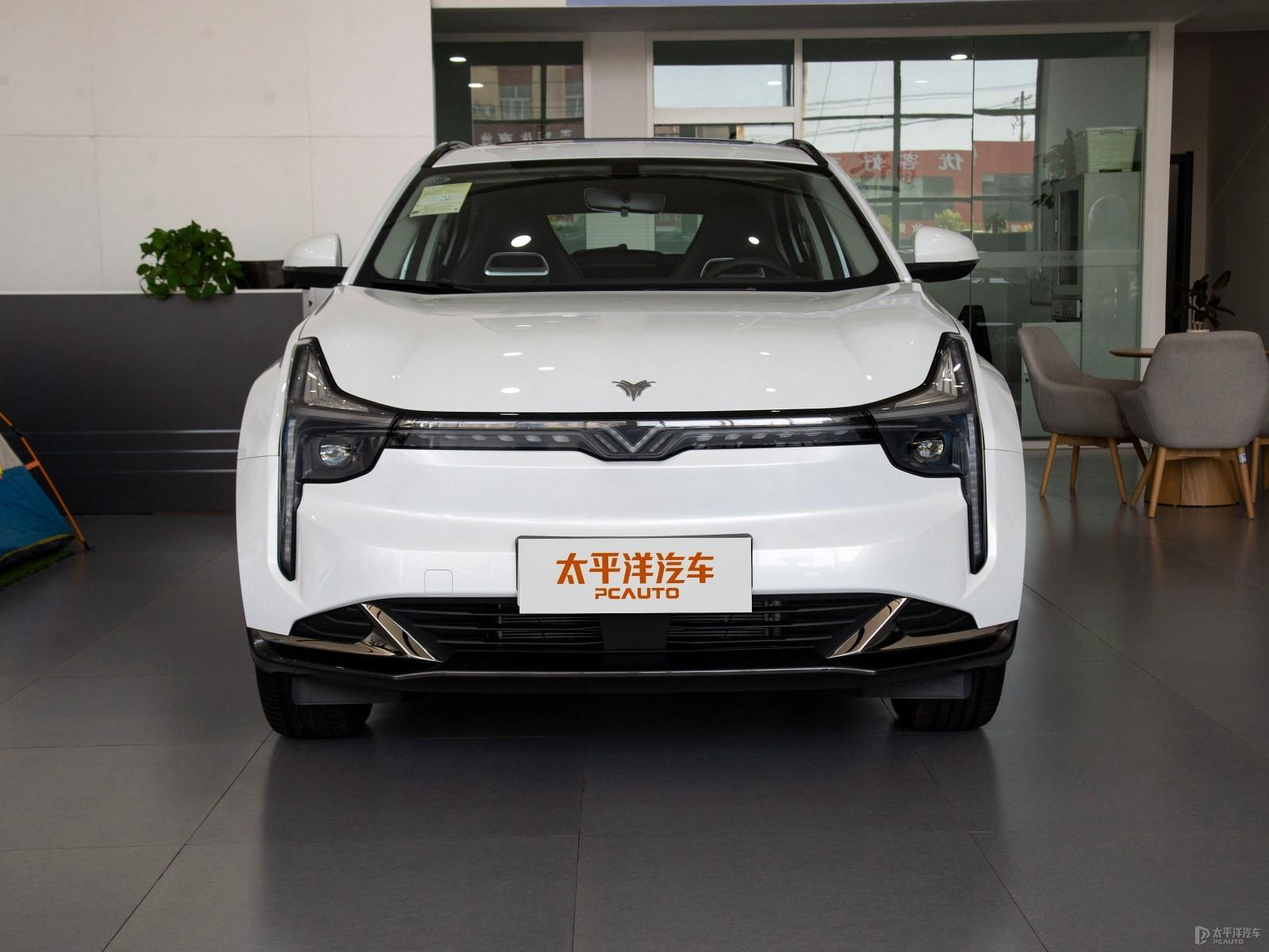NETA: (609, 378, 658, 404)
